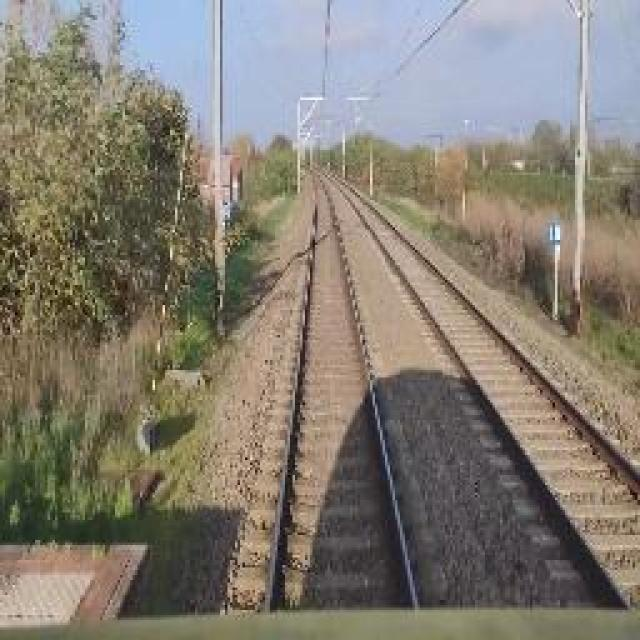rail: (230, 174, 457, 609)
